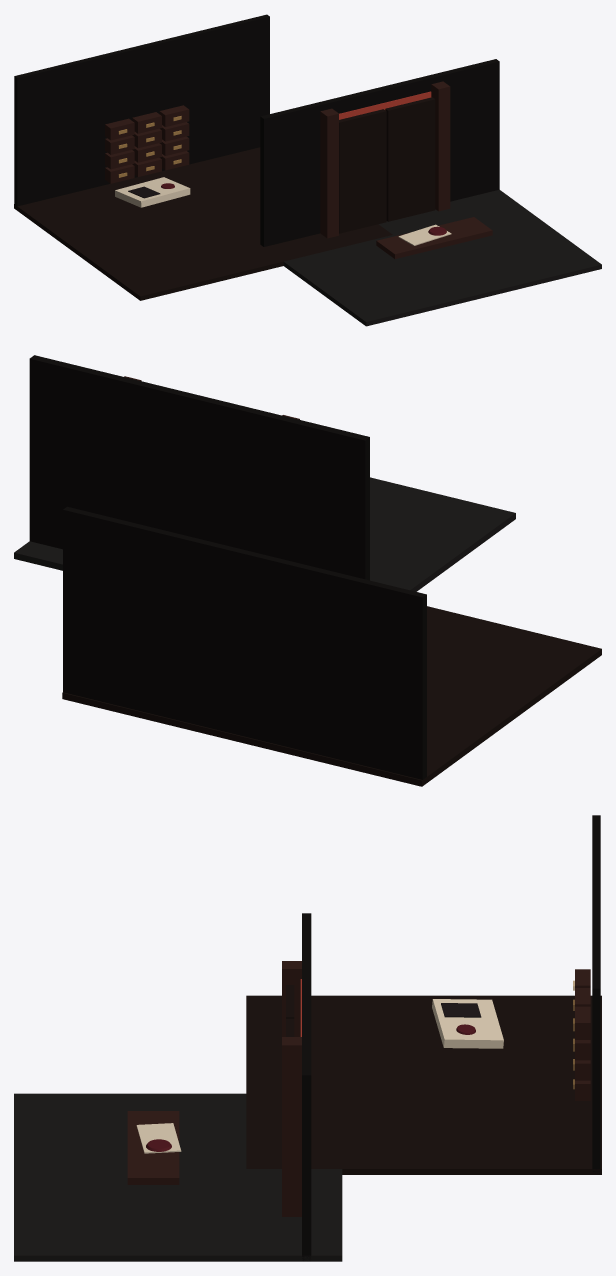
File: estate-detail-balanced.glb
3 renders of one model, top to bottom at view 1: azimuth 30°, elevation 25°; view 2: azimuth 150°, elevation 25°; view 3: azimuth 270°, elevation 25°, orthographic. The views are drawn at different scales.
Visible parts, largest first — view 1: ArchiveBackWall, ArchiveFloor, DecisionFloor, DecisionWall, DecisionDoorRightPanel, DecisionDoorLeftPanel, DecisionPillarLeft, DecisionPillarRight, DecisionConsole, ArchiveDrawerFeature, DecisionDawn, ArchiveDrawer0-3 (+6 smaller); view 2: ArchiveBackWall, DecisionWall, ArchiveFloor, DecisionFloor; view 3: ArchiveFloor, DecisionFloor, DecisionPillarRight, DecisionWall, ArchiveBackWall, DecisionConsole, ArchiveDrawerFeature, DecisionPillarLeft, DecisionEnvelope.
Boxes of the visible parts, x1=… form: ArchiveBackWall: x1=14, y1=14, x2=269, y2=209; ArchiveFloor: x1=14, y1=147, x2=392, y2=300; DecisionFloor: x1=283, y1=189, x2=601, y2=326; DecisionWall: x1=260, y1=59, x2=499, y2=246; DecisionDoorRightPanel: x1=385, y1=97, x2=435, y2=221; DecisionDoorLeftPanel: x1=339, y1=109, x2=386, y2=233; DecisionPillarLeft: x1=320, y1=108, x2=338, y2=238; DecisionPillarRight: x1=431, y1=81, x2=450, y2=211; DecisionConsole: x1=376, y1=217, x2=492, y2=258; ArchiveDrawerFeature: x1=115, y1=177, x2=190, y2=207; DecisionDawn: x1=339, y1=91, x2=431, y2=119; ArchiveDrawer0-3: x1=105, y1=118, x2=134, y2=140; ArchiveBackWall: x1=63, y1=506, x2=426, y2=779; DecisionWall: x1=29, y1=355, x2=369, y2=580; ArchiveFloor: x1=62, y1=606, x2=601, y2=786; DecisionFloor: x1=14, y1=477, x2=515, y2=591; ArchiveFloor: x1=246, y1=995, x2=601, y2=1174; DecisionFloor: x1=14, y1=1093, x2=342, y2=1261; DecisionPillarRight: x1=282, y1=1037, x2=301, y2=1216; DecisionWall: x1=302, y1=913, x2=311, y2=1261; ArchiveBackWall: x1=592, y1=815, x2=600, y2=1174; DecisionConsole: x1=127, y1=1111, x2=179, y2=1184; ArchiveDrawerFeature: x1=432, y1=999, x2=503, y2=1048; DecisionPillarLeft: x1=282, y1=961, x2=301, y2=1036; DecisionEnvelope: x1=136, y1=1123, x2=181, y2=1153.
Bounding box in the file's own units: 22.5 × 7.55 × 21.5.
